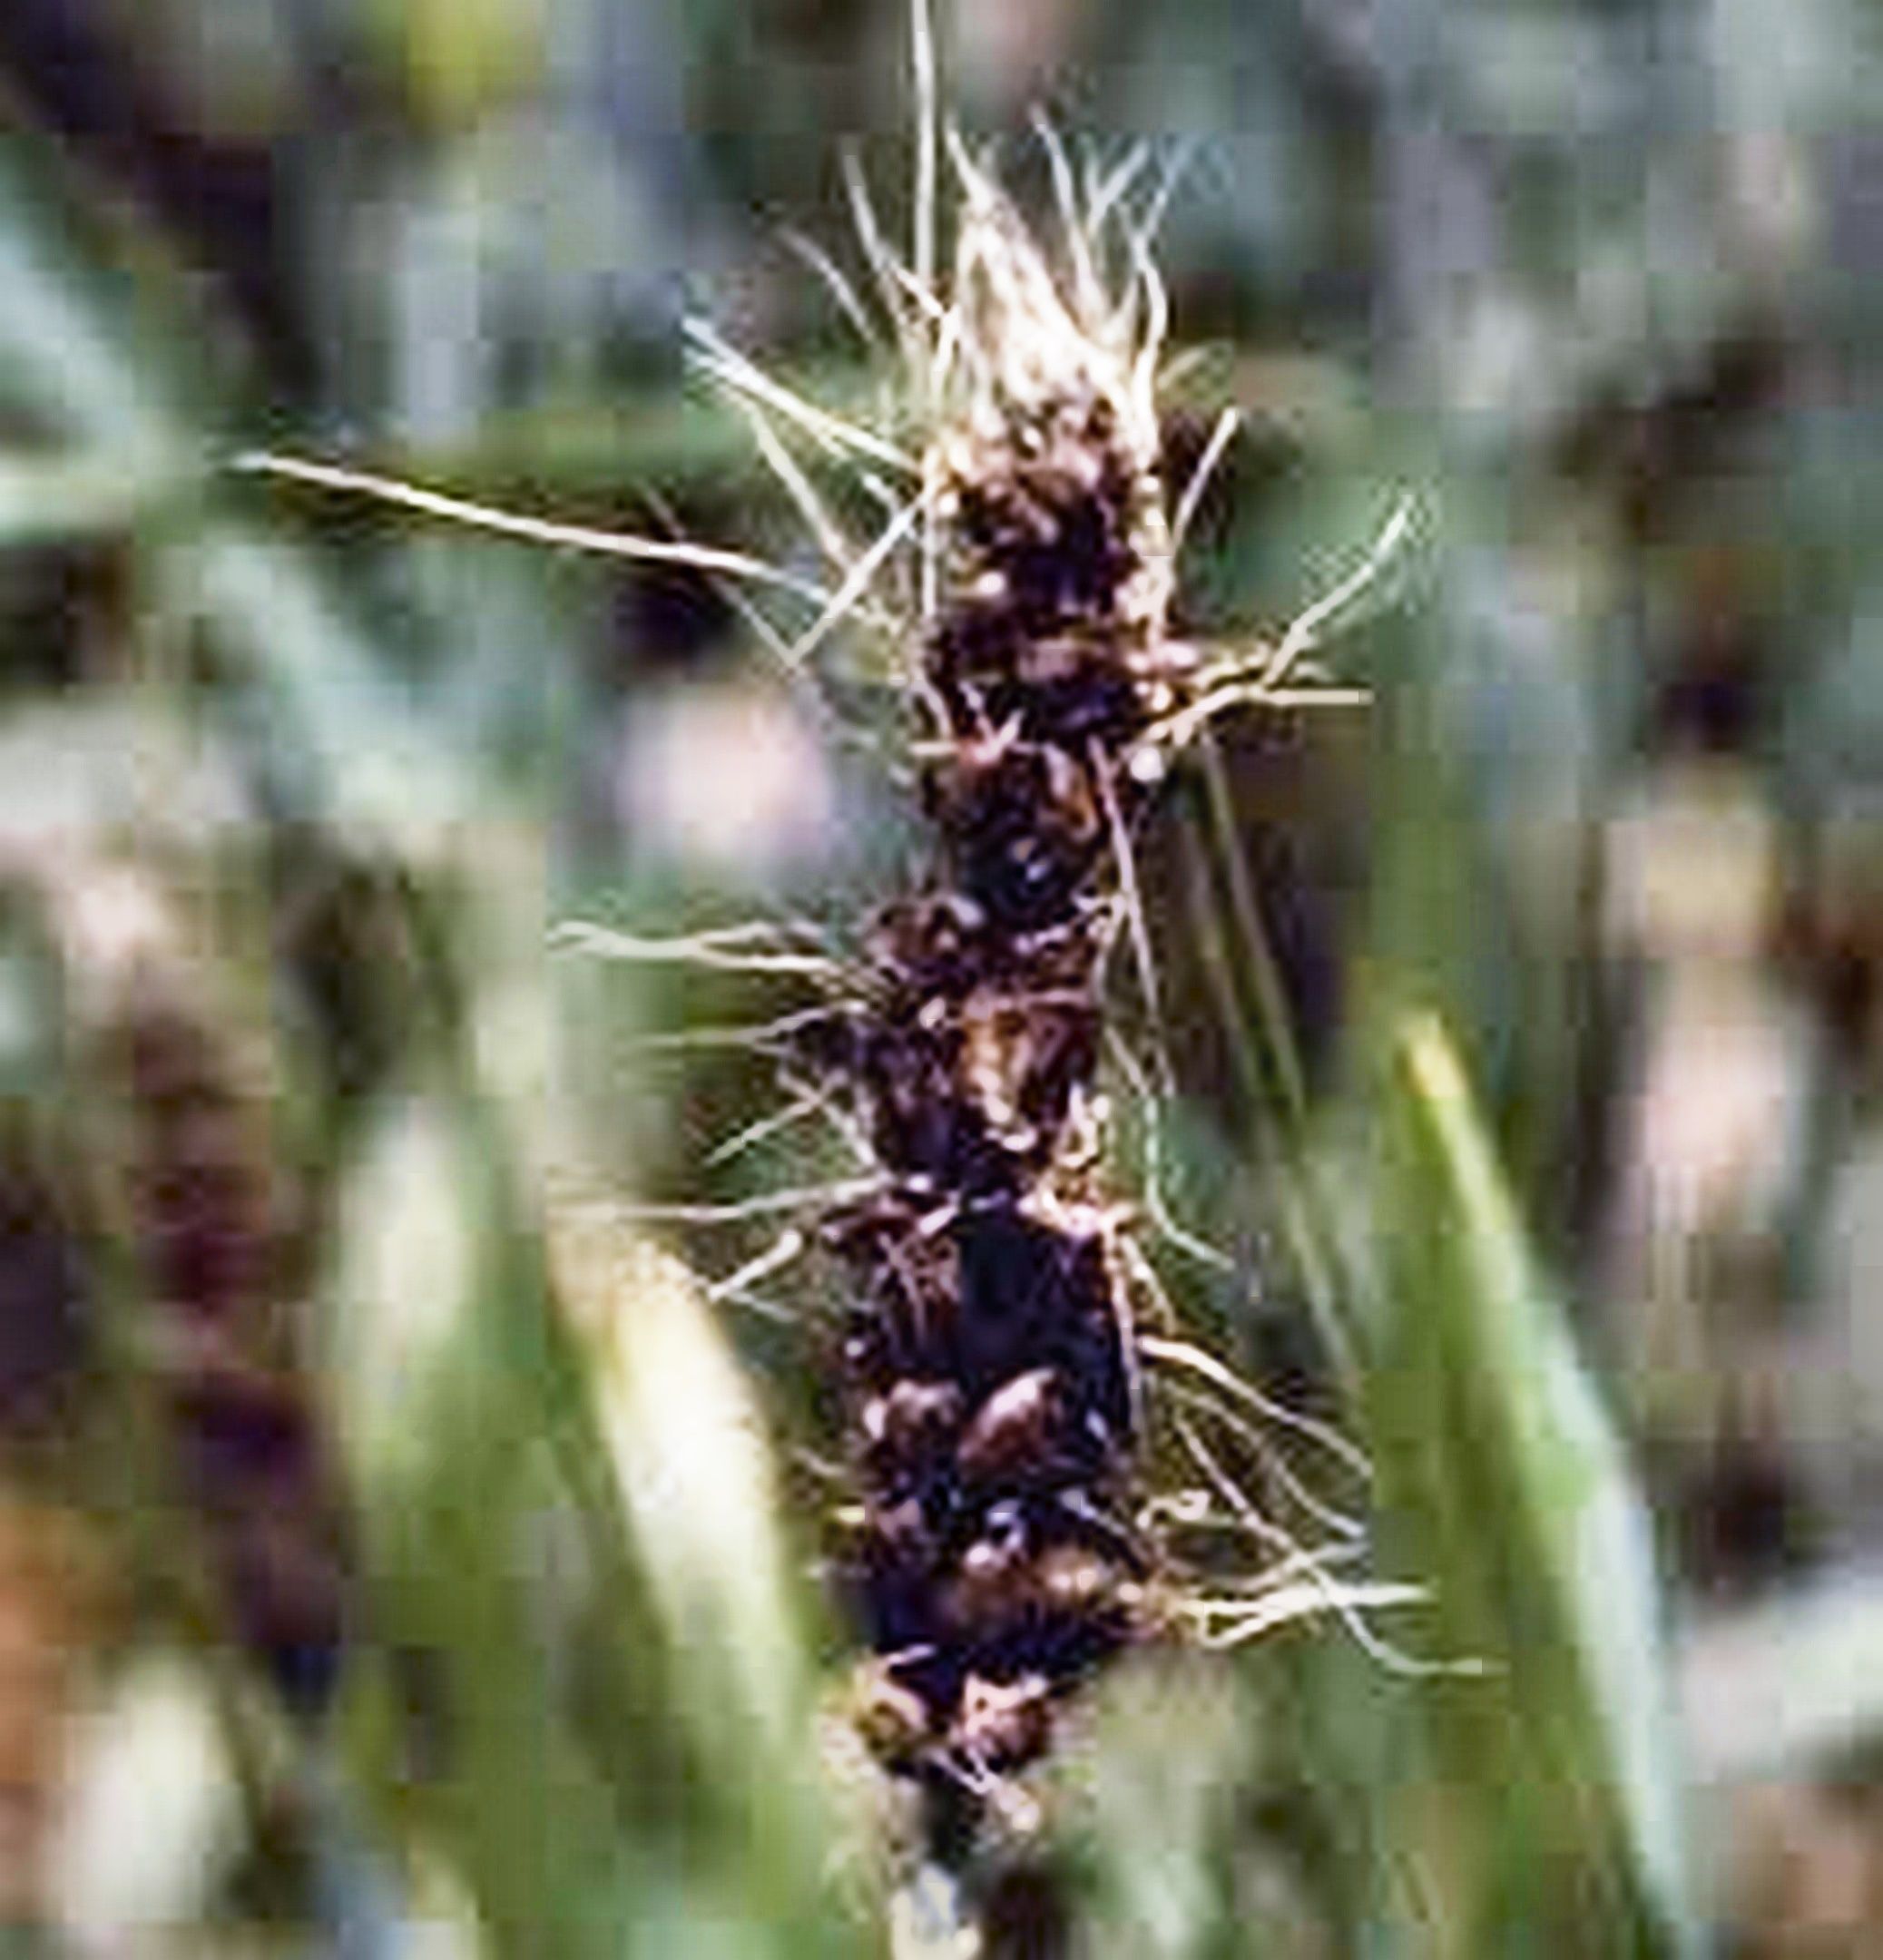Wheat Loose Smut: (752, 348, 1291, 1785)
